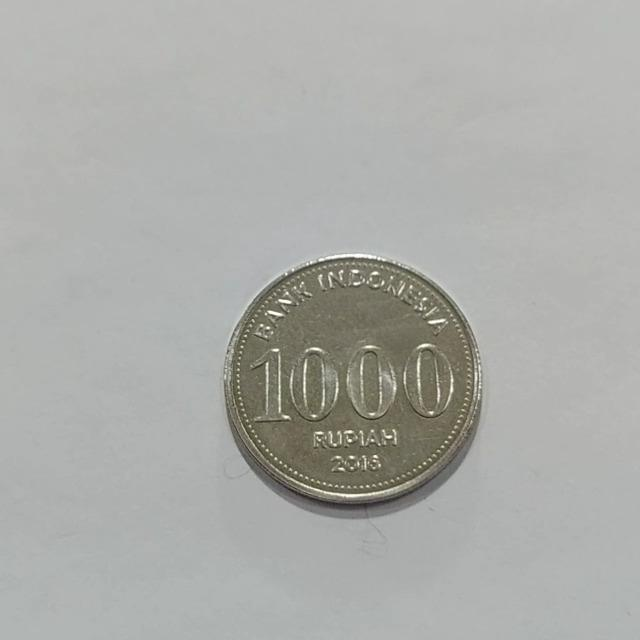Rp100: (221, 251, 483, 507)
